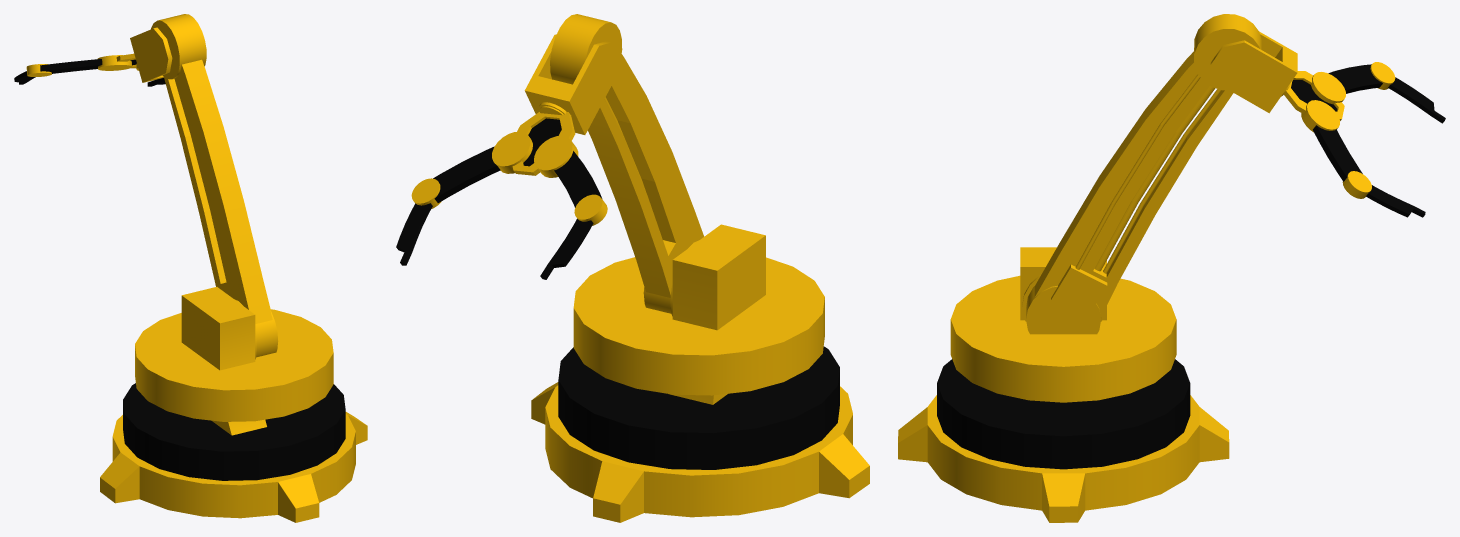
Rendered from rukica2.fbx.
The picture shows the model from 3 angles, left to right: view 1: azimuth 30°, elevation 25°; view 2: azimuth 150°, elevation 25°; view 3: azimuth 270°, elevation 25°; orthographic projection. The views are drawn at different scales.
Visible parts, largest first — view 1: pCylinder5, pasted__pCylinder8, pasted__pCylinder4.002, pasted__pasted__pCylinder8, pasted__pCube4.001, pCube7; view 2: pCylinder5, pasted__pCylinder8, pasted__pasted__pCylinder8, pasted__pCylinder4.002, pasted__pCube4.001, pasted__pCube7, pCube7, pasted__pCylinder8.001, pCylinder7, pasted__pCube8, pasted__pasted__pCube7, pCube5 (+3 smaller); view 3: pasted__pCylinder4.002, pasted__pCylinder8, pCylinder5, pasted__pasted__pCylinder8, pasted__pCube4.001, pasted__pCube7, pCube7, pasted__pCylinder8.001, pCylinder7, pasted__pCube8, pasted__pasted__pCube7.
Part boxes in pixels (x1,y1,x2,y2): pCylinder5: (100, 287, 367, 522); pasted__pCylinder8: (135, 309, 333, 421); pasted__pCylinder4.002: (151, 14, 272, 323); pasted__pasted__pCylinder8: (123, 383, 345, 480); pasted__pCube4.001: (130, 27, 172, 82); pCube7: (40, 59, 102, 73); pCylinder5: (531, 224, 869, 522); pasted__pCylinder8: (573, 257, 824, 395); pasted__pasted__pCylinder8: (558, 346, 839, 469); pasted__pCylinder4.002: (550, 14, 704, 297); pasted__pCube4.001: (524, 34, 617, 134); pasted__pCube7: (433, 146, 500, 203); pCube7: (554, 151, 602, 207); pasted__pCylinder8.001: (492, 131, 532, 173); pCylinder7: (534, 135, 578, 177); pasted__pCube8: (540, 218, 593, 279); pasted__pasted__pCube7: (396, 203, 432, 265); pCube5: (512, 112, 575, 175); pasted__pCylinder4.002: (1034, 14, 1262, 318); pasted__pCylinder8: (950, 275, 1176, 402); pCylinder5: (898, 247, 1229, 522); pasted__pasted__pCylinder8: (937, 359, 1190, 469); pasted__pCube4.001: (1210, 31, 1297, 113); pasted__pCube7: (1313, 125, 1362, 181); pCube7: (1328, 64, 1382, 93); pasted__pCylinder8.001: (1301, 100, 1339, 132); pCylinder7: (1311, 72, 1345, 104); pasted__pCube8: (1388, 77, 1445, 123); pasted__pasted__pCube7: (1366, 185, 1425, 217).
Size of the model in its own units: 694 by 1018 by 1146.
